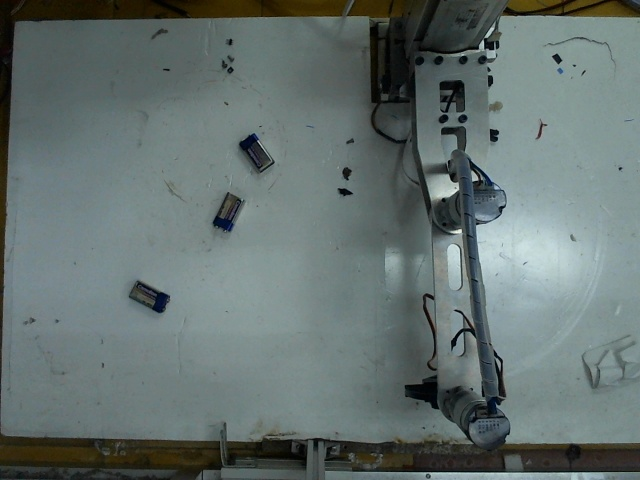battery: (233, 129, 275, 172), (123, 275, 168, 313), (213, 188, 242, 231)
